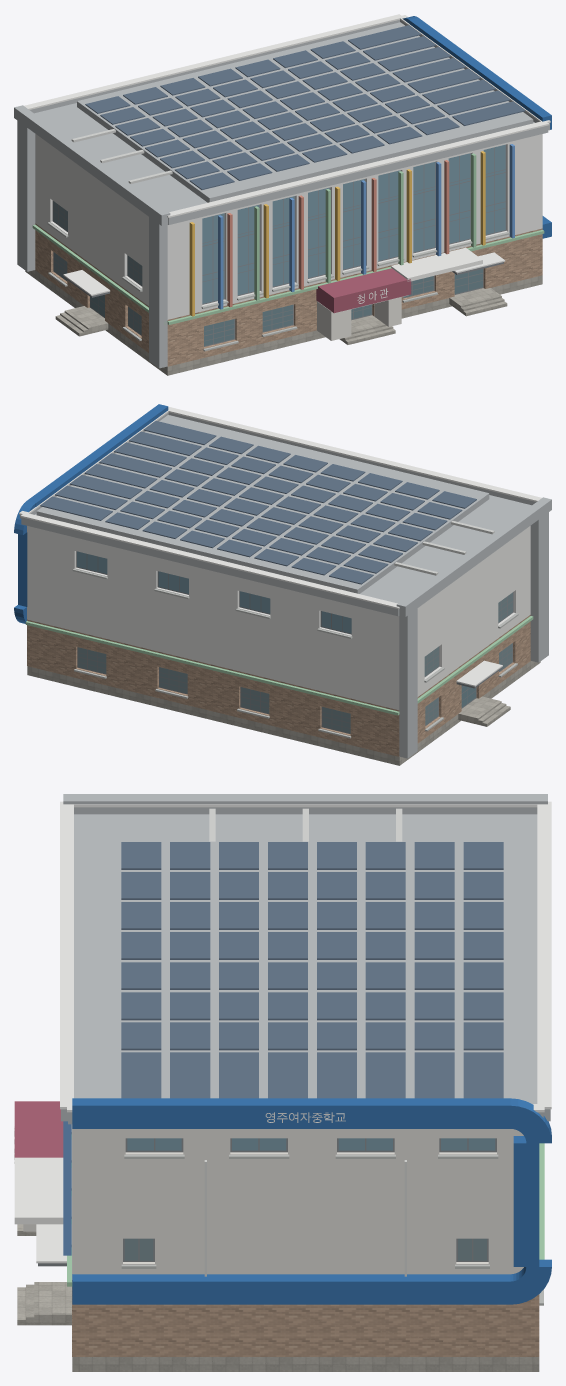
3 renders of one model, top to bottom at view 1: azimuth 30°, elevation 25°; view 2: azimuth 150°, elevation 25°; view 3: azimuth 270°, elevation 25°, orthographic. The views are drawn at different scales.
Parts seen in each view (by area): view 1: cheongaguan__metalroof, cheongaguan__solar, cheongaguan__panel, cheongaguan__clerestoryglass, cheongaguan__brick, cheongaguan__cap, cheongaguan__frame, cheongaguan__mint, cheongaguan__stone, cheongaguan__yellow, cheongaguan__blue, cheongaguan__burgundy (+12 smaller); view 2: cheongaguan__panel, cheongaguan__metalroof, cheongaguan__solar, cheongaguan__brick, cheongaguan__cap, cheongaguan__stone, cheongaguan__sideglass, cheongaguan__gymblue, cheongaguan__mint, cheongaguan__clerestoryglass, cheongaguan__frame, cheongaguan__sill (+3 smaller); view 3: cheongaguan__solar, cheongaguan__metalroof, cheongaguan__basepaint, cheongaguan__gymblue, cheongaguan__brick, cheongaguan__cap, cheongaguan__stone, cheongaguan__clerestoryglass, cheongaguan__burgundy, cheongaguan__sill, cheongaguan__band, cheongaguan__frame (+5 smaller).
Part boxes in pixels (x1,y1,x2,y2): cheongaguan__metalroof: (14, 20, 549, 368); cheongaguan__solar: (85, 25, 525, 189); cheongaguan__panel: (35, 134, 542, 319); cheongaguan__clerestoryglass: (202, 144, 505, 303); cheongaguan__brick: (35, 223, 542, 366); cheongaguan__cap: (24, 14, 550, 313); cheongaguan__frame: (52, 144, 506, 346); cheongaguan__mint: (32, 153, 544, 324); cheongaguan__stone: (25, 270, 542, 375); cheongaguan__yellow: (189, 151, 485, 316); cheongaguan__blue: (218, 144, 514, 309); cheongaguan__burgundy: (316, 268, 411, 313); cheongaguan__panel: (27, 526, 530, 710); cheongaguan__metalroof: (20, 412, 551, 758); cheongaguan__solar: (40, 421, 476, 584); cheongaguan__brick: (27, 615, 530, 756); cheongaguan__cap: (19, 407, 541, 686); cheongaguan__stone: (27, 661, 540, 765); cheongaguan__sideglass: (78, 592, 512, 733); cheongaguan__gymblue: (14, 404, 168, 623); cheongaguan__mint: (25, 616, 533, 715); cheongaguan__clerestoryglass: (77, 551, 351, 633); cheongaguan__frame: (76, 551, 513, 734); cheongaguan__sill: (72, 568, 518, 738); cheongaguan__solar: (121, 842, 503, 1098); cheongaguan__metalroof: (61, 794, 550, 1124); cheongaguan__basepaint: (23, 1129, 523, 1274); cheongaguan__gymblue: (72, 1098, 551, 1304); cheongaguan__brick: (72, 1280, 539, 1356); cheongaguan__cap: (14, 801, 551, 1263); cheongaguan__stone: (72, 1357, 539, 1371); cheongaguan__clerestoryglass: (127, 1138, 495, 1150); cheongaguan__burgundy: (14, 1101, 63, 1157); cheongaguan__sill: (71, 1124, 543, 1305); cheongaguan__band: (204, 808, 406, 1276); cheongaguan__frame: (123, 1138, 496, 1261).
Size of the model in its own units: 35.31 by 13.59 by 24.2.
Materials: 21 (2 with a texture image).
